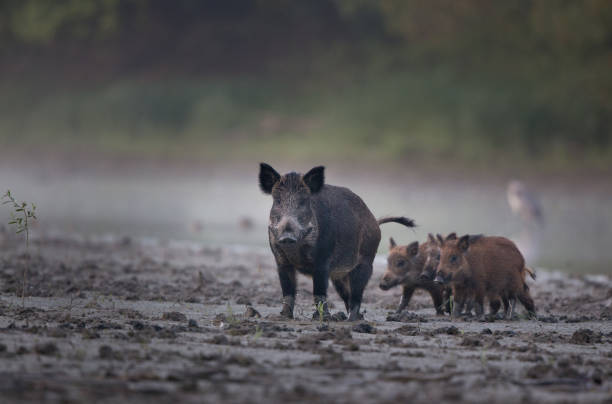pig: (248, 163, 400, 312)
